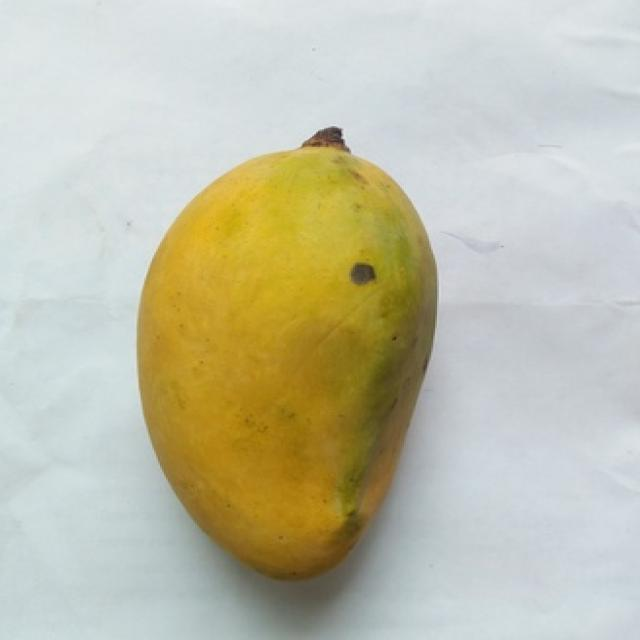Mango: (137, 142, 435, 575)
